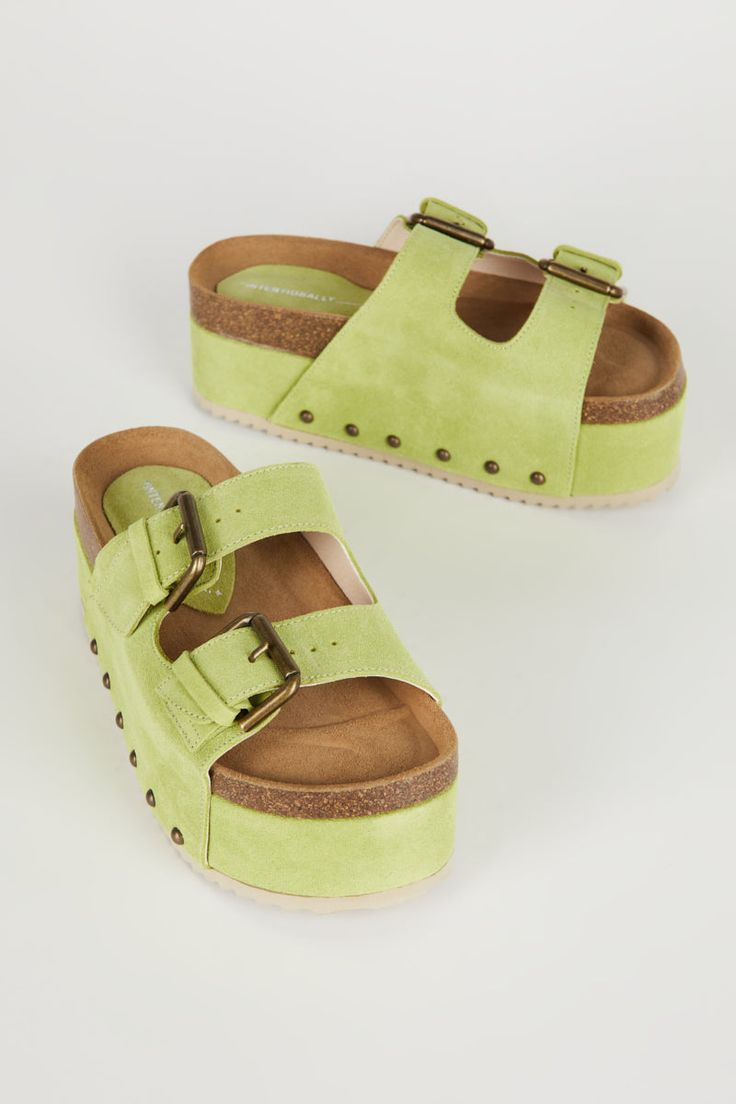gamuza: (72, 198, 687, 898)
